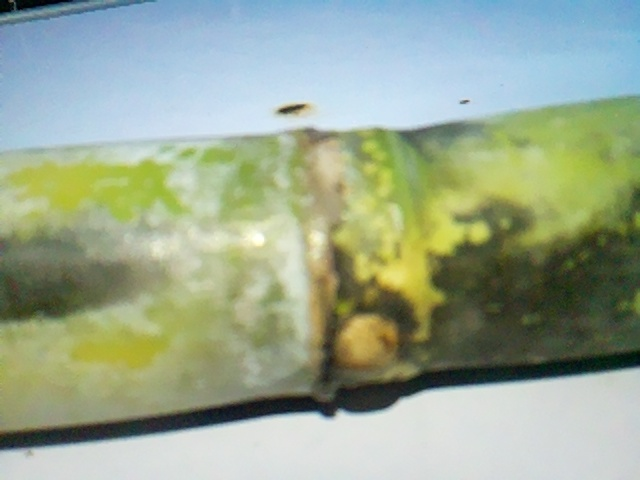Good Sugarcane: (0, 92, 638, 437)
Node: (263, 124, 471, 402)
